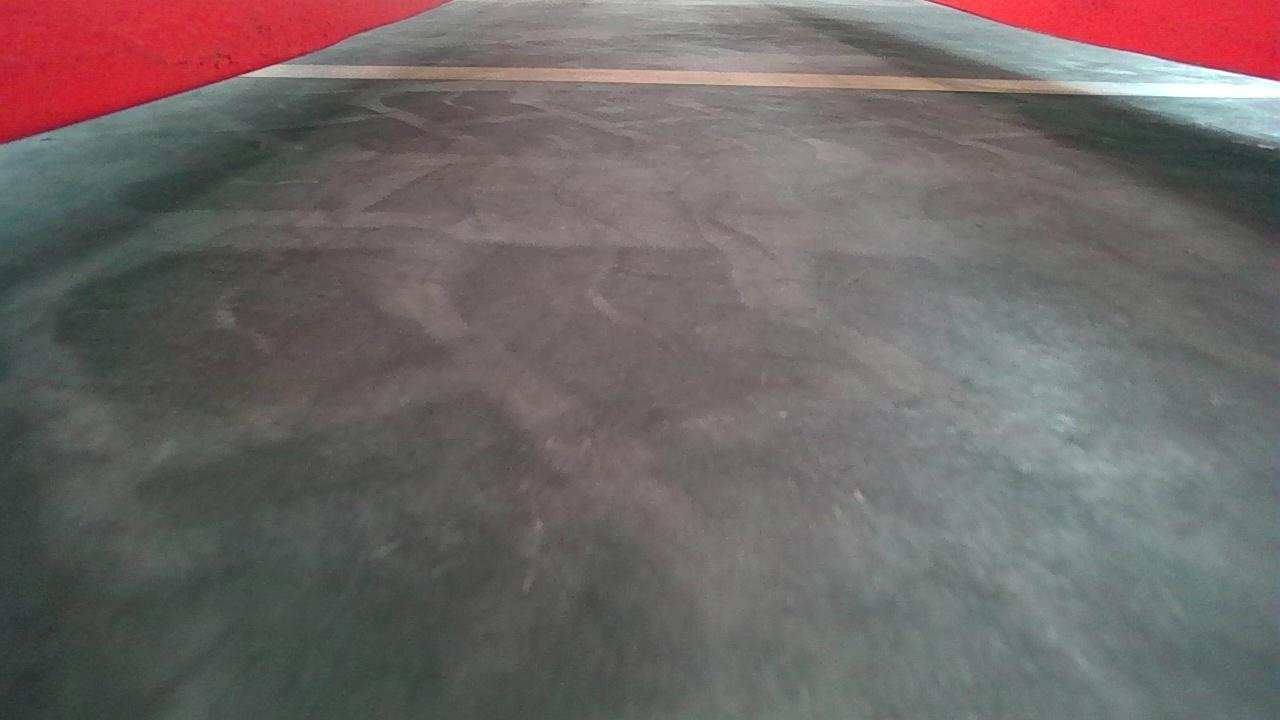yellow_line: (243, 62, 1278, 96)
